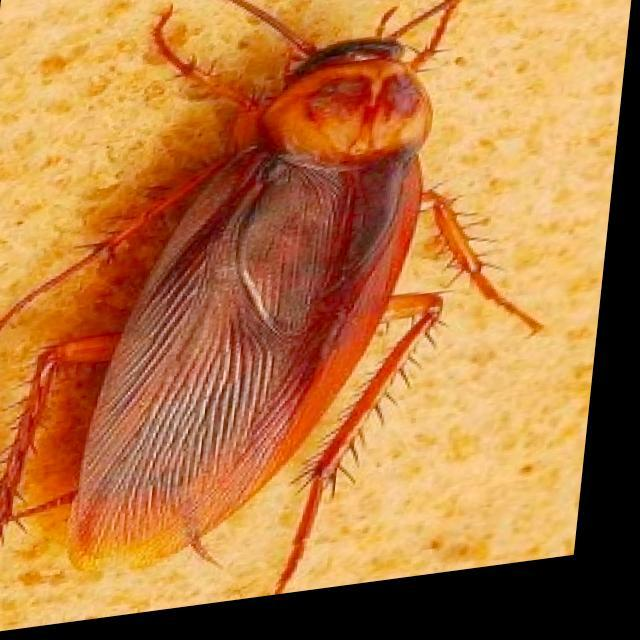cockroach: (0, 0, 548, 588)
